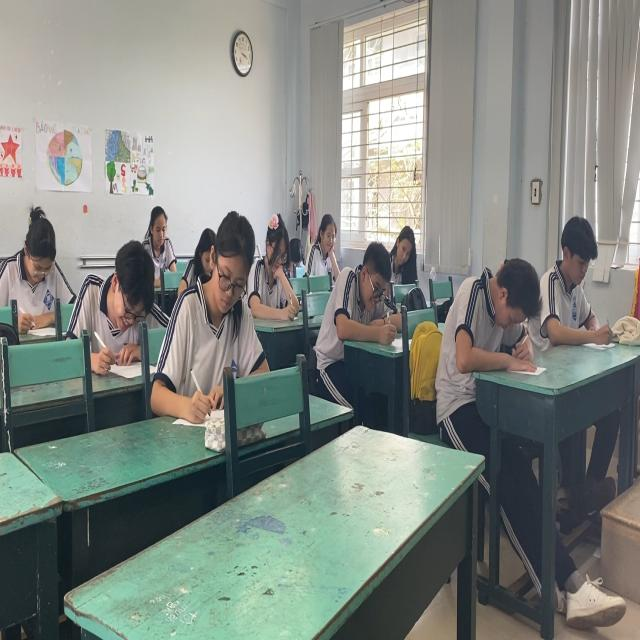not_cheating: (73, 240, 186, 374), (182, 216, 262, 402), (439, 254, 542, 381), (540, 208, 614, 341), (0, 209, 65, 325), (328, 247, 394, 333), (254, 192, 296, 312), (136, 198, 178, 268), (305, 205, 336, 278), (390, 223, 416, 282)
